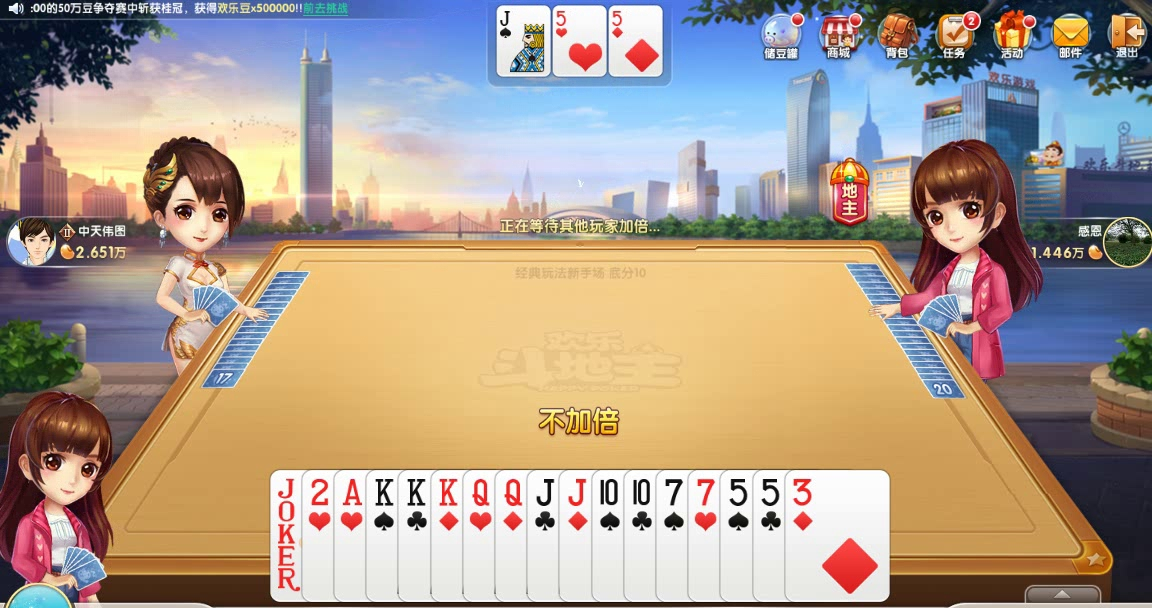10~2: (622, 469, 729, 602)
10~4: (591, 469, 698, 602)
11~1: (558, 469, 665, 602)
11~2: (525, 469, 632, 602)
11~4: (497, 4, 552, 77)
12~1: (494, 469, 601, 602)
12~3: (460, 469, 567, 602)
13~1: (430, 469, 537, 602)
13~2: (397, 469, 504, 602)
13~4: (365, 469, 472, 602)
14~3: (332, 469, 439, 602)
15~3: (300, 469, 407, 602)
18~4: (269, 469, 376, 602)
3~1: (783, 469, 890, 602)
5~1: (609, 4, 664, 77)
5~2: (752, 469, 859, 602)
5~3: (552, 4, 607, 77)
5~4: (718, 469, 825, 602)
7~3: (686, 469, 793, 602)
7~4: (655, 469, 762, 602)
